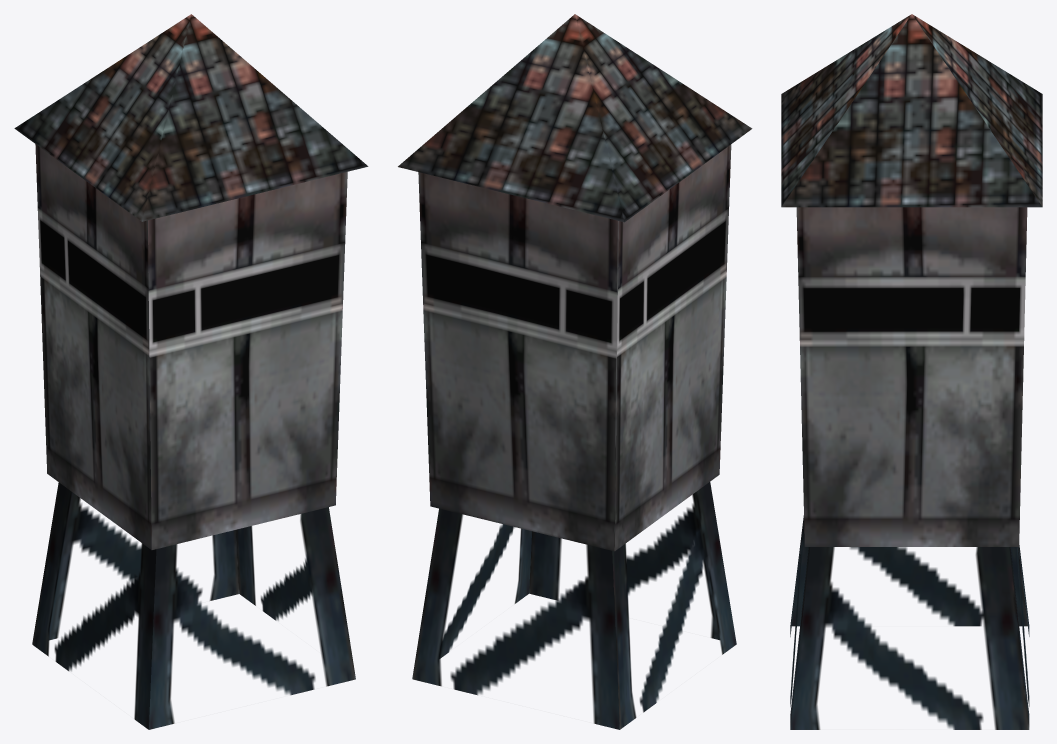
File: Civilian - Infrastructure - Generic Bridge Tower - Damaged - CBBIn01_D.glb
The picture shows the model from 3 angles, left to right: view 1: azimuth 30°, elevation 25°; view 2: azimuth 150°, elevation 25°; view 3: azimuth 270°, elevation 25°; orthographic projection. The views are drawn at different scales.
Visible parts, largest first — view 1: CBBIN01_D; view 2: CBBIN01_D; view 3: CBBIN01_D.
Part boxes in pixels (x1=…): CBBIN01_D: x1=14, y1=14, x2=368, y2=729; CBBIN01_D: x1=398, y1=14, x2=752, y2=729; CBBIN01_D: x1=781, y1=14, x2=1042, y2=729.
Size of the model in its own units: 12.14 by 33.15 by 11.84.
1 material, 1 textured.
